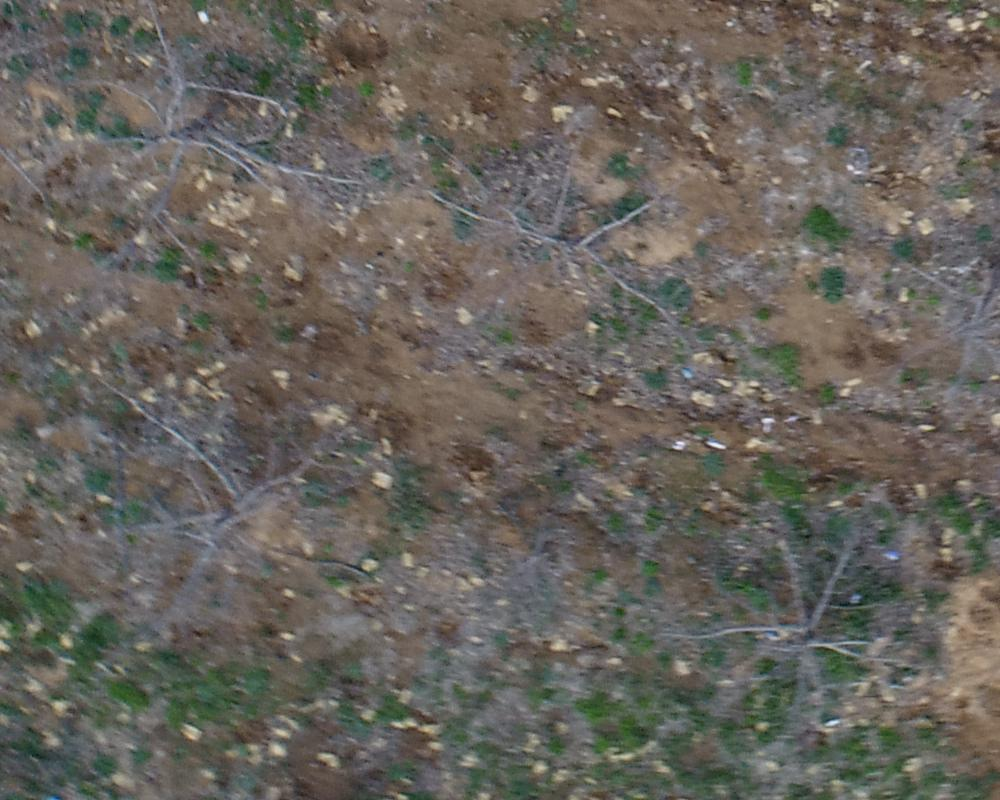apple: (92, 386, 367, 641), (89, 10, 344, 254), (409, 141, 667, 337), (679, 520, 898, 742), (883, 237, 990, 393)
